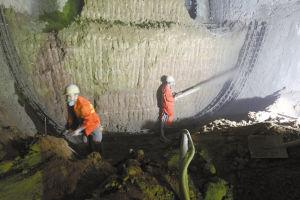gloves: (72, 128, 84, 136)
hard-hat: (64, 84, 79, 96)
person: (61, 84, 103, 156), (156, 75, 178, 144)
ppe-suit: (65, 95, 104, 144), (158, 83, 176, 127)
